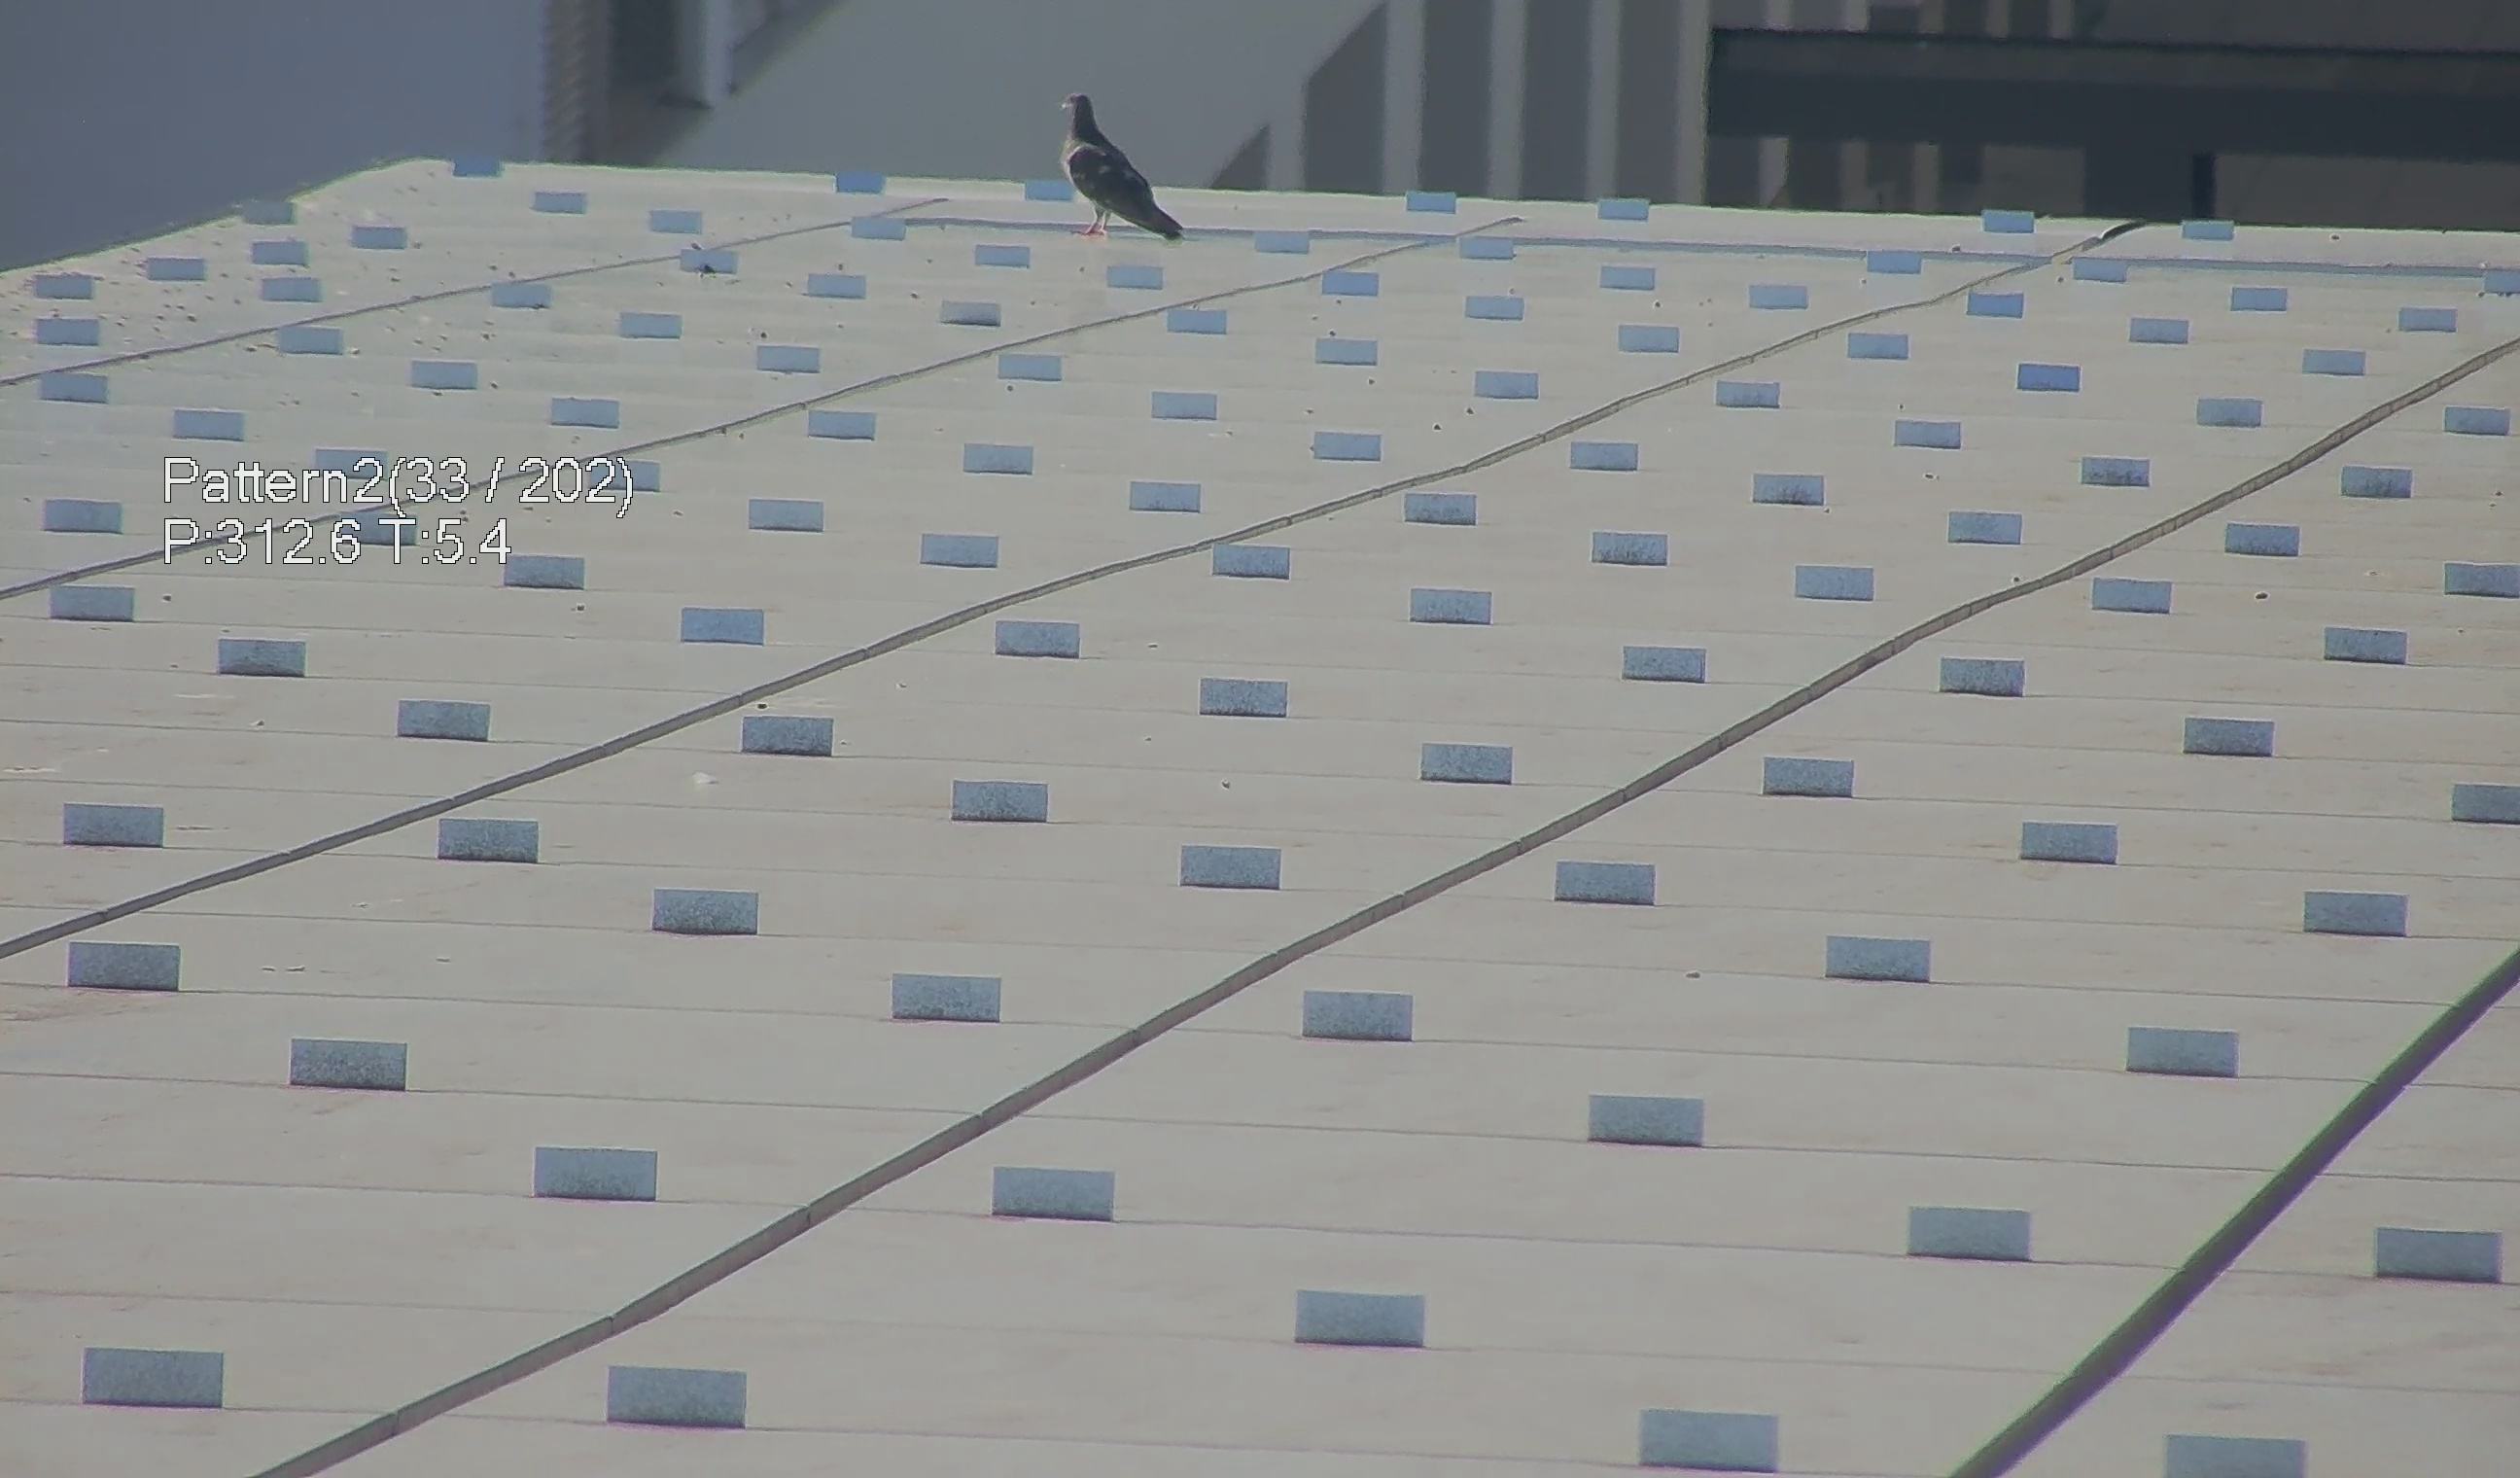Pigeon: (1041, 79, 1182, 245)
